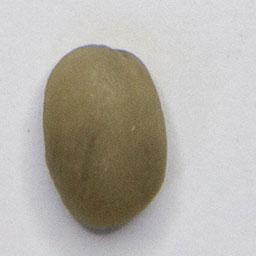premium: (38, 40, 172, 236)
